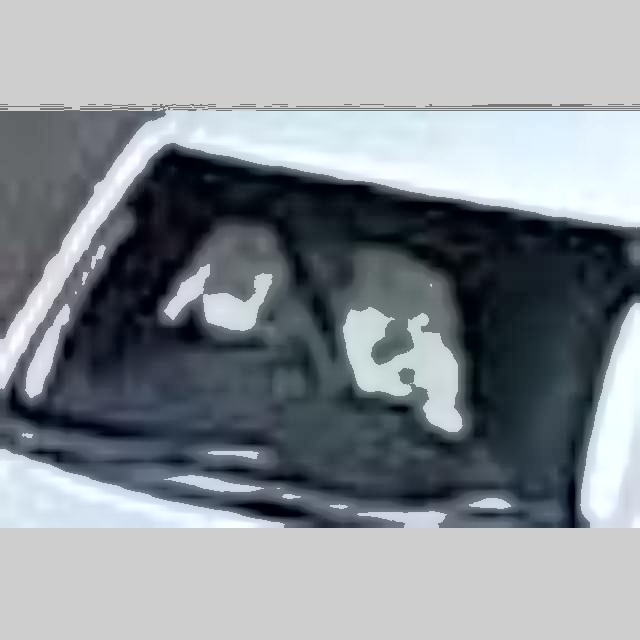pakai: (151, 200, 471, 467)
